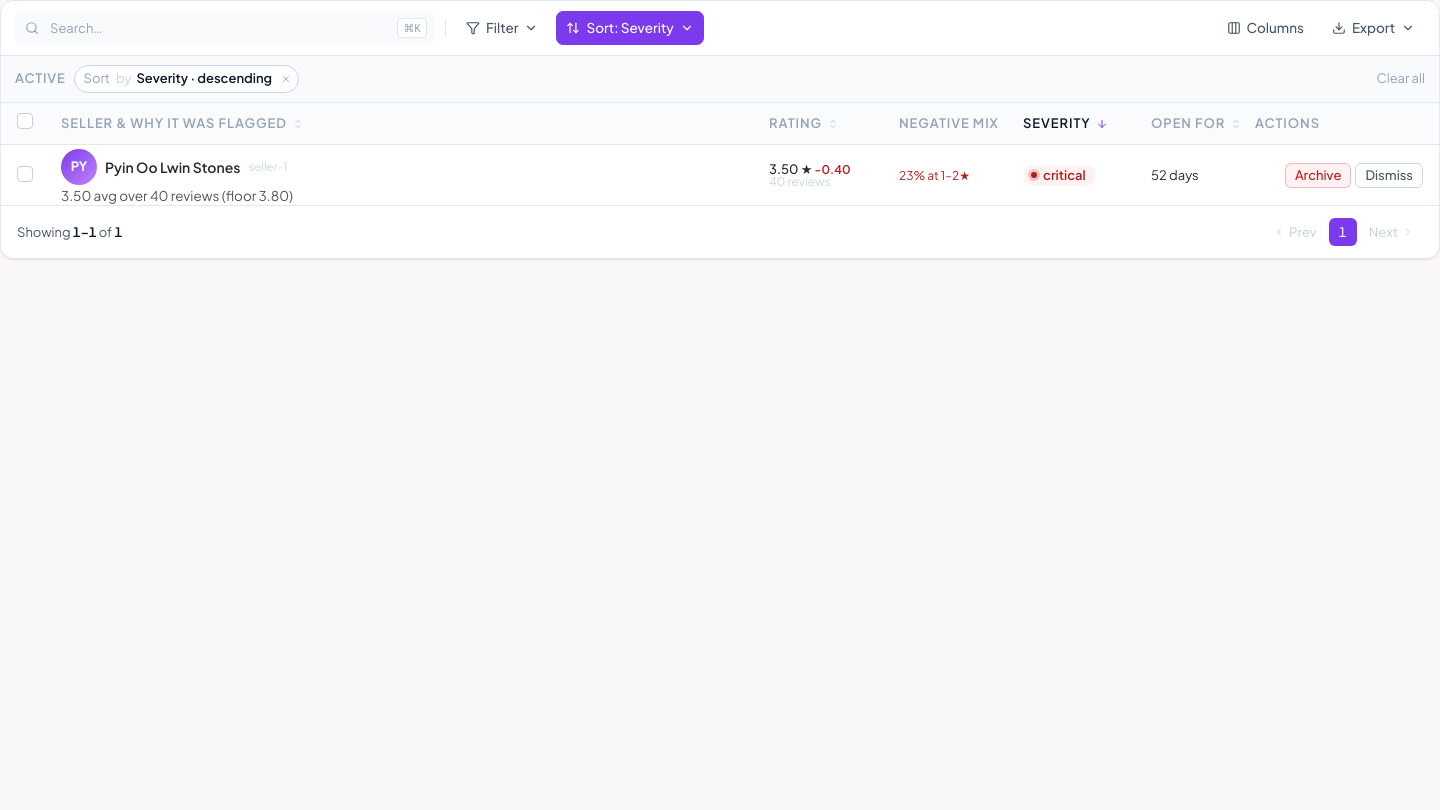
ReputationCasesTable › opens the detail drawer on row click and shows the why-flagged signal
The width and height of the screenshot is (1440, 810).
Click the text "Pyin Oo Lwin Stones" at (173, 166), box x1=105 y1=160 x2=240 y2=174
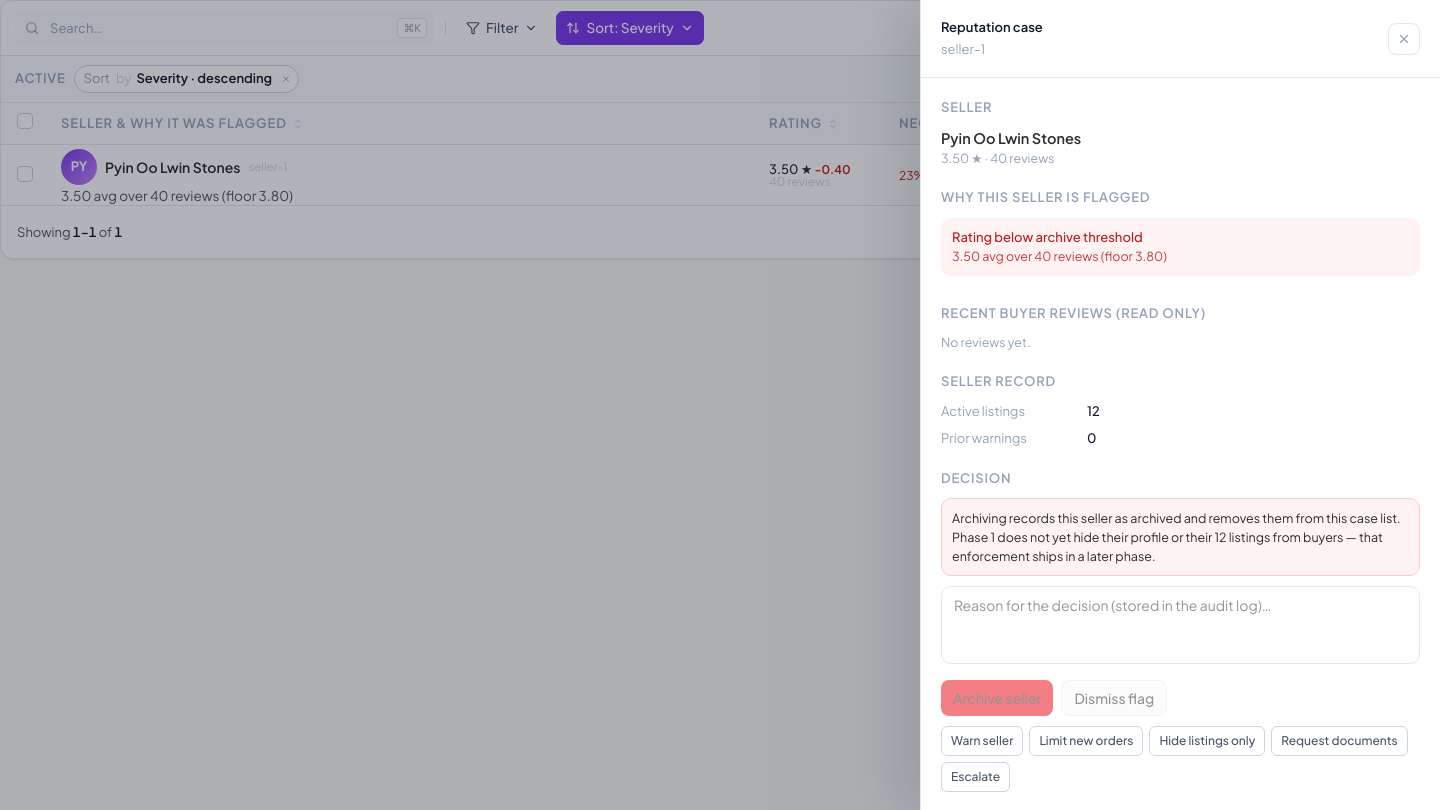
Check: the text "3.50 avg over 40 reviews (floor 3.80)" is shown, box x1=952 y1=248 x2=1167 y2=264
